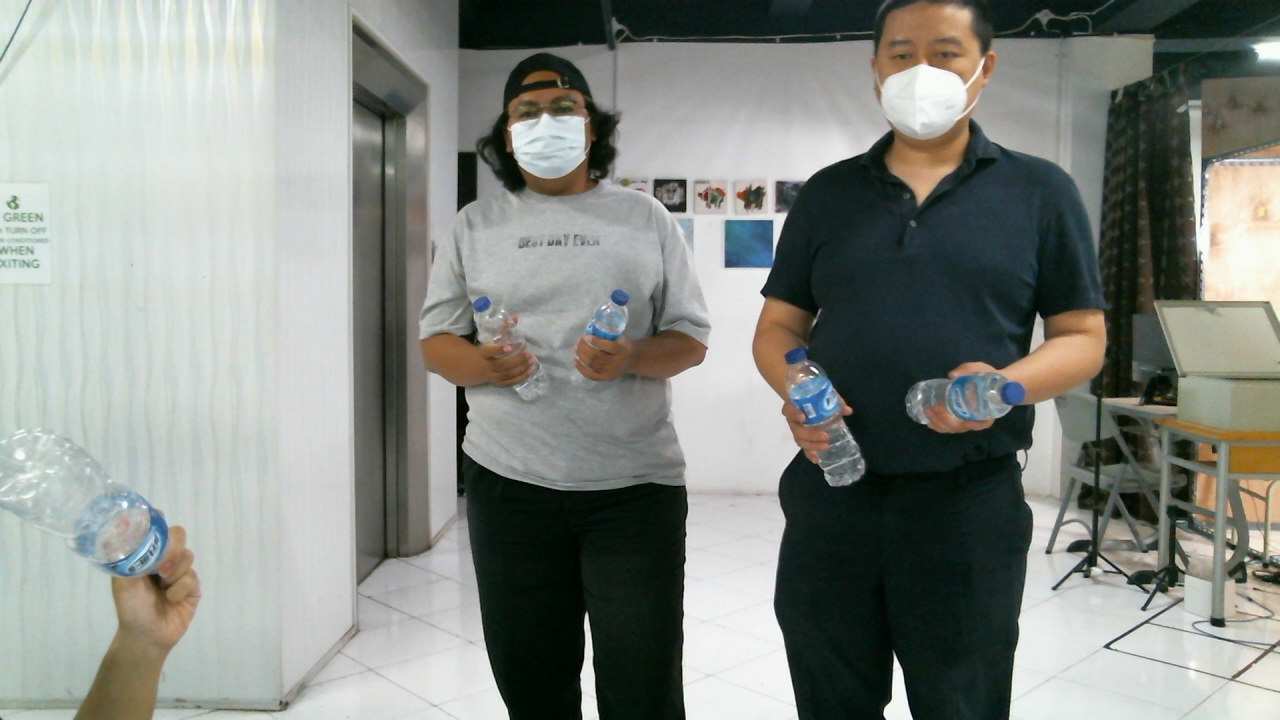Bottle: (2, 425, 174, 583), (779, 345, 868, 489)
